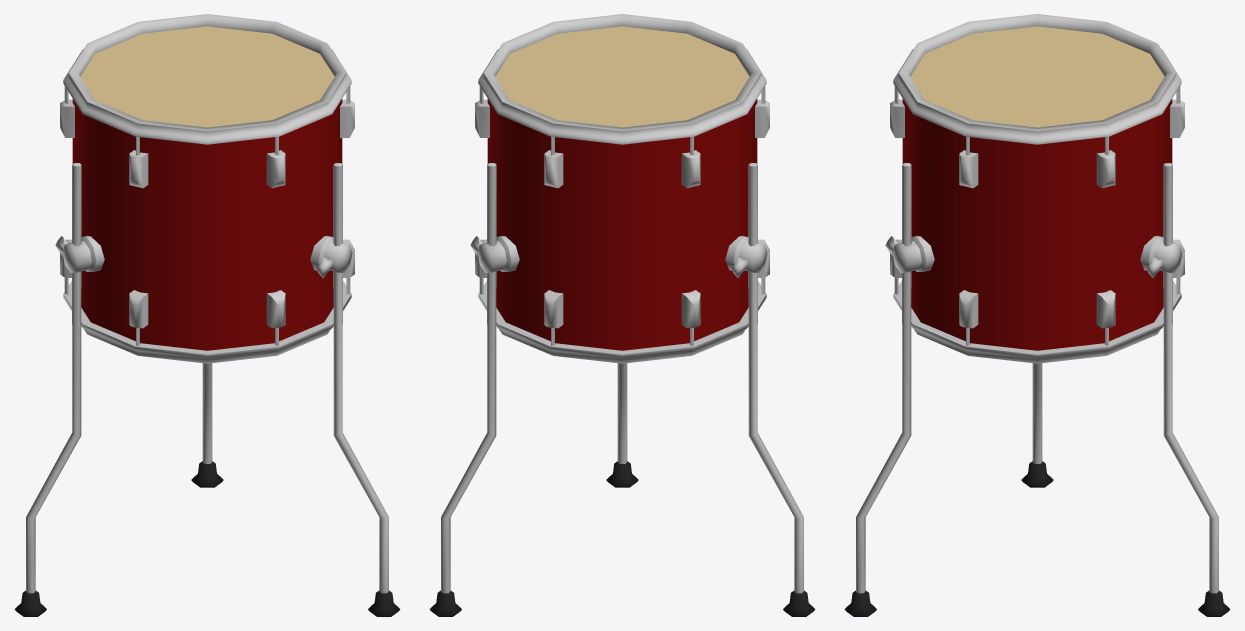
The model's file is RockSceneTomDrum.fbx.
3 renders of one model, left to right at view 1: azimuth 30°, elevation 25°; view 2: azimuth 150°, elevation 25°; view 3: azimuth 270°, elevation 25°, orthographic.
Parts seen in each view (by area): view 1: TomDrum_Drum, TomDrum_Legs, TomDrum_RotThingys; view 2: TomDrum_Drum, TomDrum_Legs, TomDrum_RotThingys; view 3: TomDrum_Drum, TomDrum_Legs, TomDrum_RotThingys.
Part boxes in pixels (<box>): TomDrum_Drum: <box>63,14,351,363</box>; TomDrum_Legs: <box>14,163,400,616</box>; TomDrum_RotThingys: <box>60,86,354,345</box>; TomDrum_Drum: <box>478,14,766,363</box>; TomDrum_Legs: <box>429,163,815,616</box>; TomDrum_RotThingys: <box>475,86,769,345</box>; TomDrum_Drum: <box>893,14,1181,363</box>; TomDrum_Legs: <box>844,163,1230,616</box>; TomDrum_RotThingys: <box>890,86,1184,345</box>.
Size of the model in its own units: 427 by 646 by 455.
